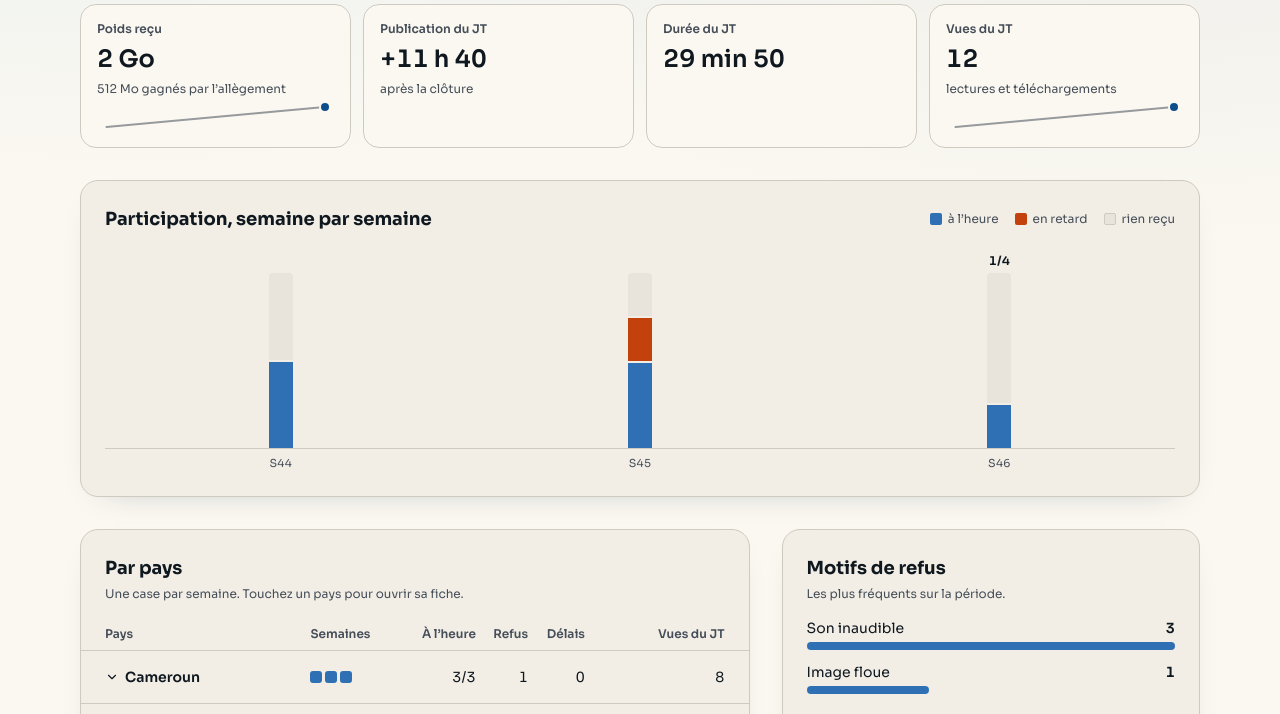
it: la page des statistiques › dit chaque colonne en clair, au clavier comme au survol
(page scrolled)
Focus the list item named "Semaine 45 : 2 pays à l’heure, 1 en retard, 1 sans envoi". click: [640, 360]
box: top-left (628, 273), bottom-right (652, 448)
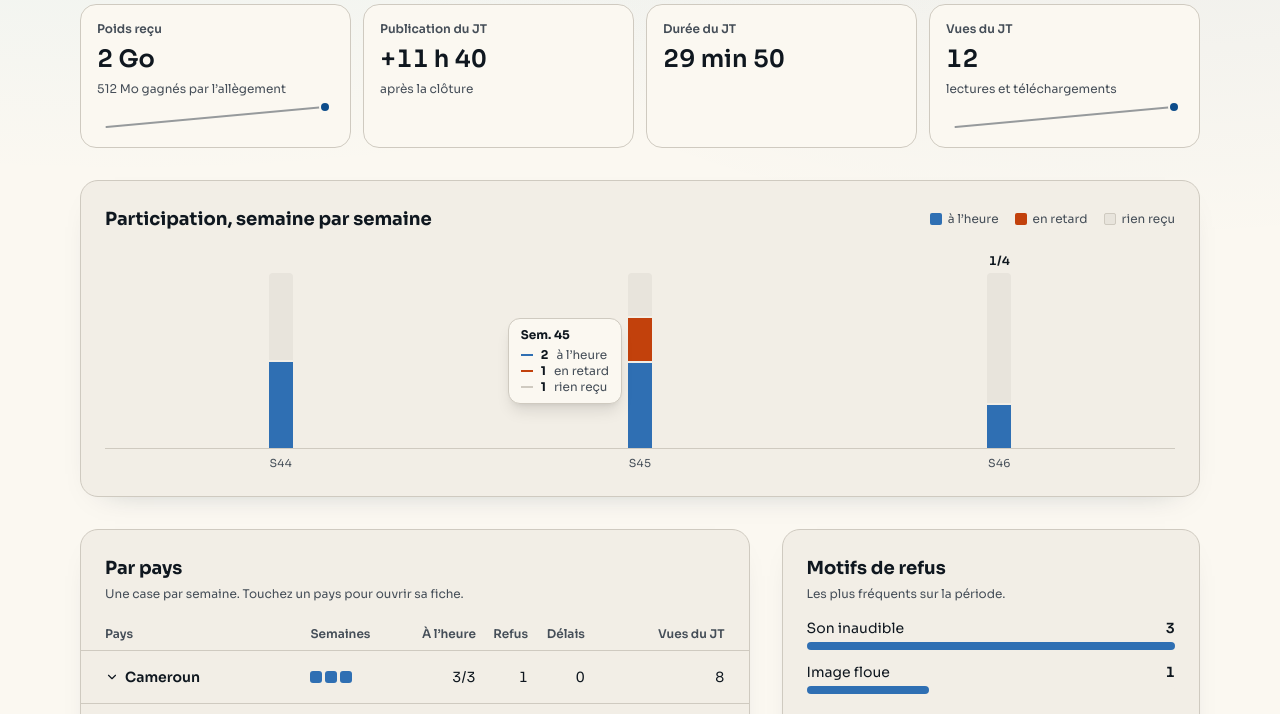
Expected: the tooltip shows "Sem. 45", top-left (521, 326), bottom-right (570, 342)
